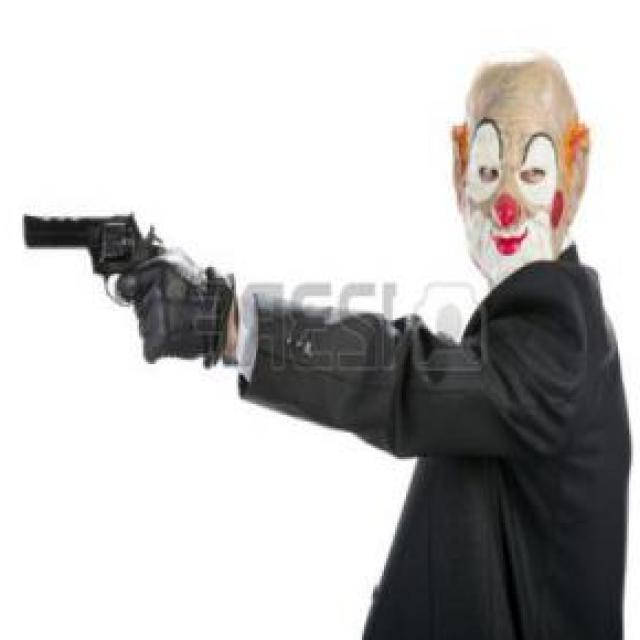pistol: (22, 192, 177, 382)
